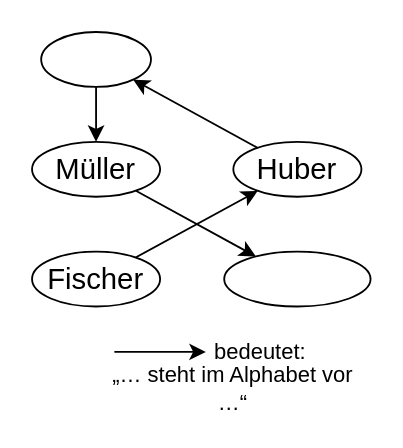
This 403x448 diagram has some shape labels left out. The shapes that lost their labels are listed below. From the top down, each one's centre as x and y in pixels, then its label:
At point 95,58: "Mayer".
At point 296,278: "Schmidt".
